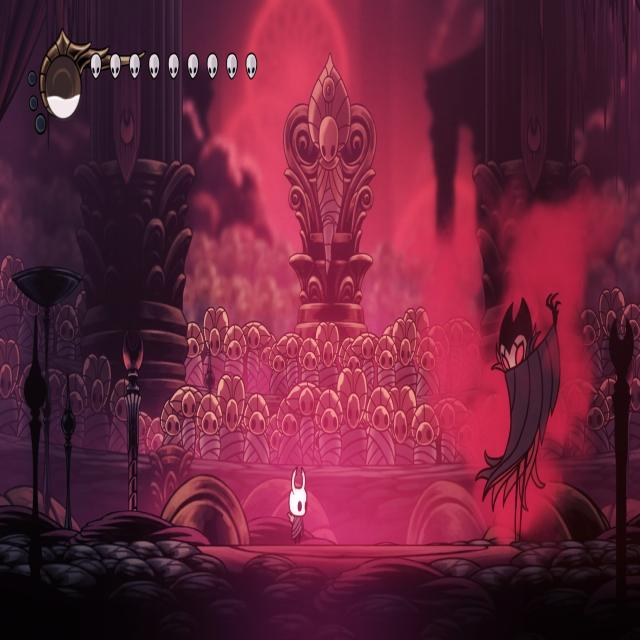Open Cloak: (473, 294, 566, 540)
Player: (285, 463, 309, 545)
